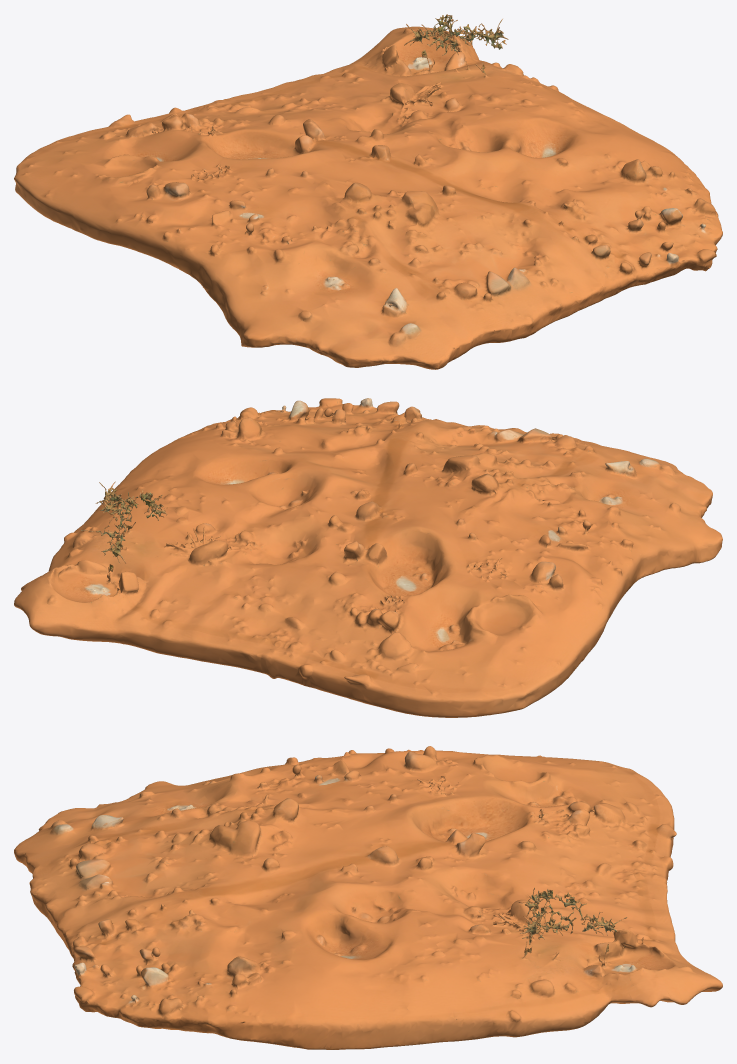
File: Meshy_AI_dirt_ground_2_0519045015_texture.glb
3 views of the same model, one above another, from view 1: azimuth 30°, elevation 25°; view 2: azimuth 150°, elevation 25°; view 3: azimuth 270°, elevation 25° (orthographic). The views are drawn at different scales.
Parts seen in each view (by area): view 1: Mesh_0; view 2: Mesh_0; view 3: Mesh_0.
Part boxes in pixels (x1,y1,x2,y2): Mesh_0: (14, 14, 722, 369); Mesh_0: (14, 398, 722, 717); Mesh_0: (14, 746, 722, 1049).
Size of the model in its own units: 1.71 by 0.316 by 1.91.
1 material, 1 textured.
